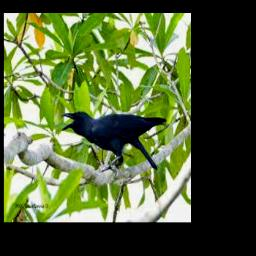Crow: (61, 110, 167, 171)
